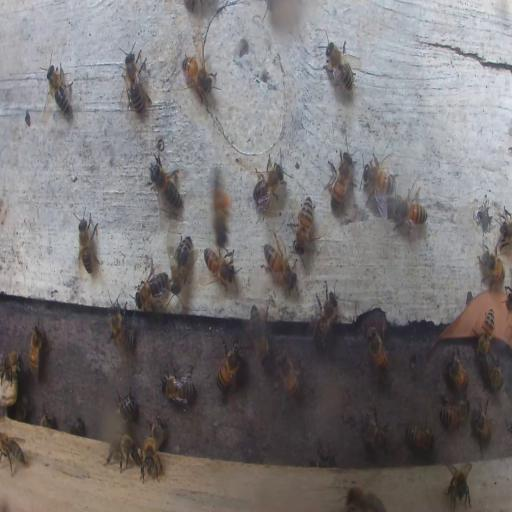nonpollenbee: (360, 150, 398, 211), (325, 146, 355, 213), (150, 155, 184, 210), (183, 49, 216, 105), (323, 40, 356, 95), (252, 157, 285, 212), (262, 240, 297, 290), (309, 288, 338, 348), (44, 61, 74, 118), (202, 244, 238, 290), (123, 51, 146, 115), (360, 406, 390, 454), (76, 210, 98, 275), (216, 337, 242, 391), (108, 300, 135, 350), (273, 348, 300, 398), (169, 234, 194, 288), (106, 434, 141, 472), (160, 368, 195, 406), (249, 302, 271, 362), (391, 195, 427, 231), (136, 269, 170, 307), (471, 399, 493, 453), (294, 196, 314, 255), (346, 483, 388, 511), (446, 462, 472, 506), (0, 348, 22, 400), (0, 433, 27, 474), (438, 396, 470, 430), (366, 324, 388, 372), (445, 352, 469, 392), (480, 248, 505, 286), (404, 423, 435, 452), (28, 322, 43, 379), (142, 438, 161, 479), (479, 308, 494, 358), (498, 206, 512, 250), (117, 388, 135, 421), (149, 416, 164, 451), (488, 356, 502, 391), (315, 445, 330, 467), (40, 407, 55, 427), (69, 418, 83, 434)
pollenbee: (209, 160, 234, 246)
